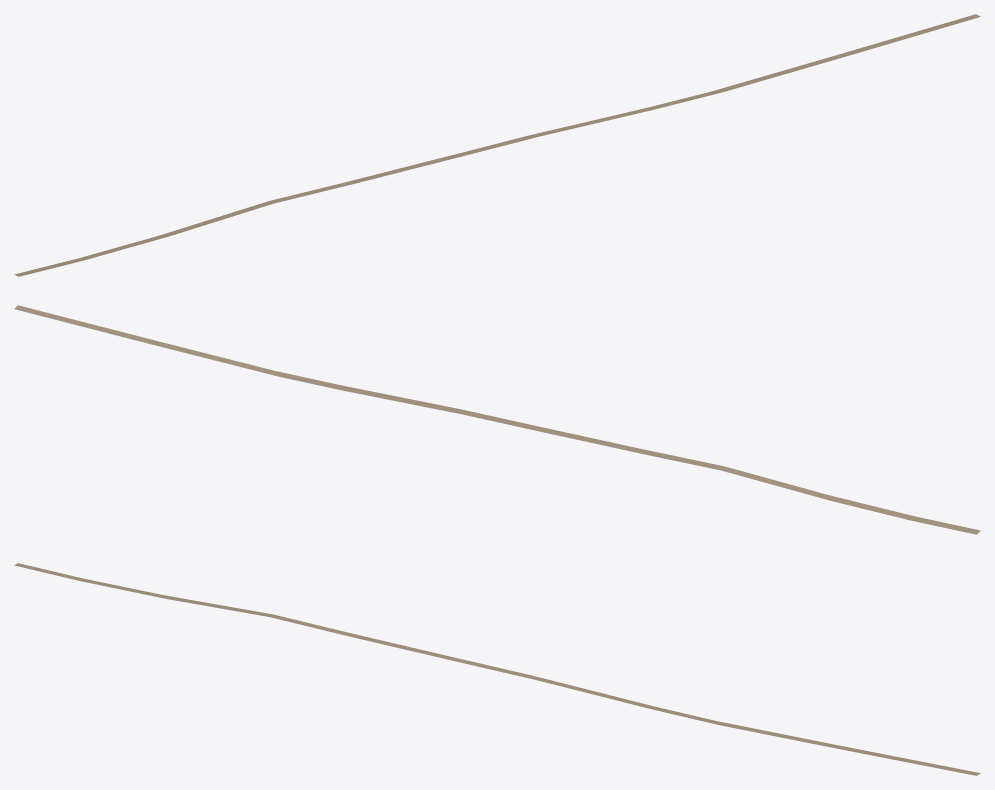
File: farm_0_2_track.glb
3 views of the same model, one above another, from view 1: azimuth 30°, elevation 25°; view 2: azimuth 150°, elevation 25°; view 3: azimuth 330°, elevation 25° (orthographic). The views are drawn at different scales.
Parts seen in each view (by area): view 1: geometry_0; view 2: geometry_0; view 3: geometry_0.
Part boxes in pixels (bbox=[...]): geometry_0: bbox=[14, 14, 980, 276]; geometry_0: bbox=[14, 305, 980, 534]; geometry_0: bbox=[14, 563, 980, 775].
Bounding box in the file's own units: 405 × 3.72 × 16.19.
